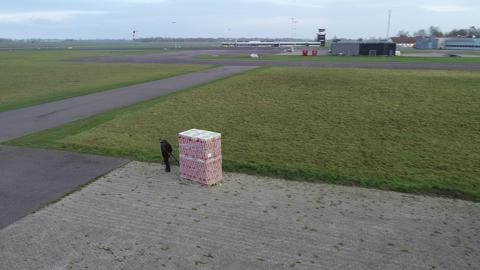RockwoolPallet: (178, 128, 223, 186)
